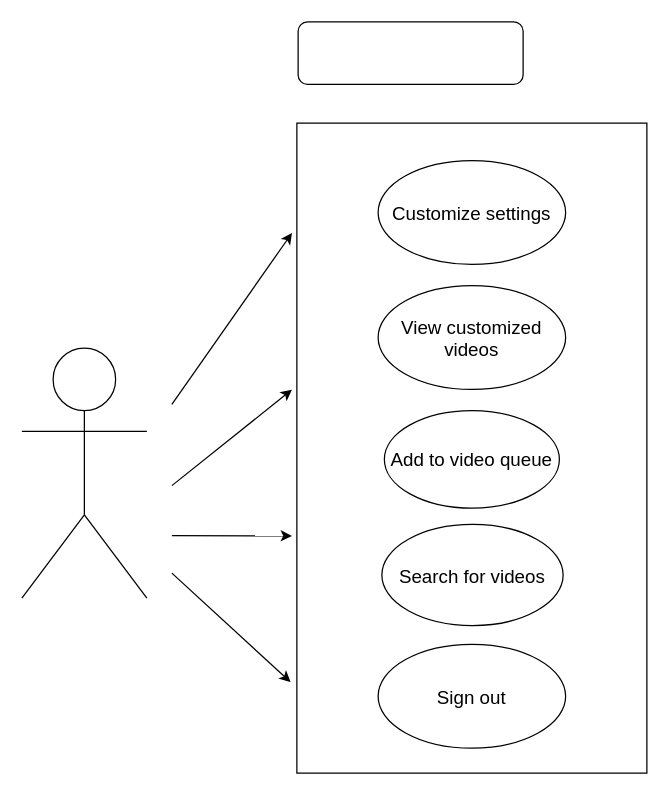
Some shapes in this 669 by 795 pixel diagram are drawn without their labels. The shapes that lost their labels are listed below. From the top down, each one's box as (x1, y1, x2, y2) in pixels, then its label:
(297, 21, 523, 84): Post-login/Customization
(21, 347, 147, 598): Actor
